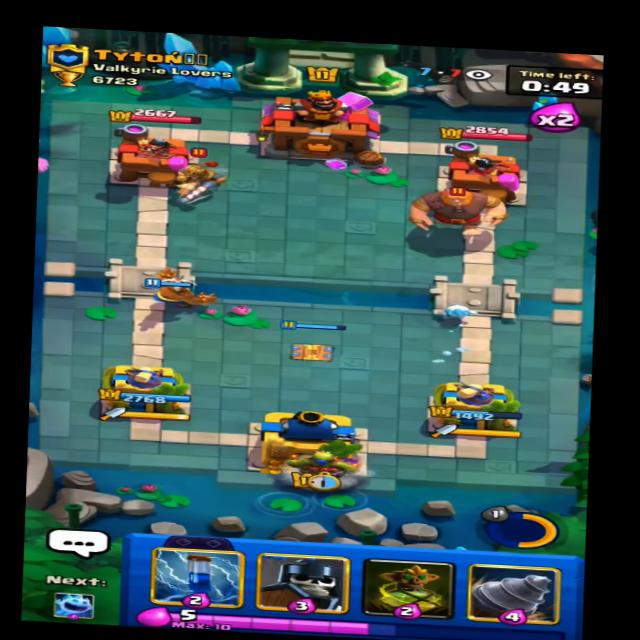giant: (400, 179, 508, 233)
prince: (166, 151, 229, 201)
